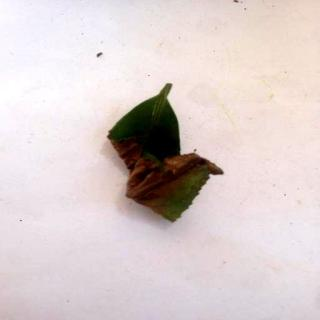Brown Blight: (108, 84, 226, 224)
